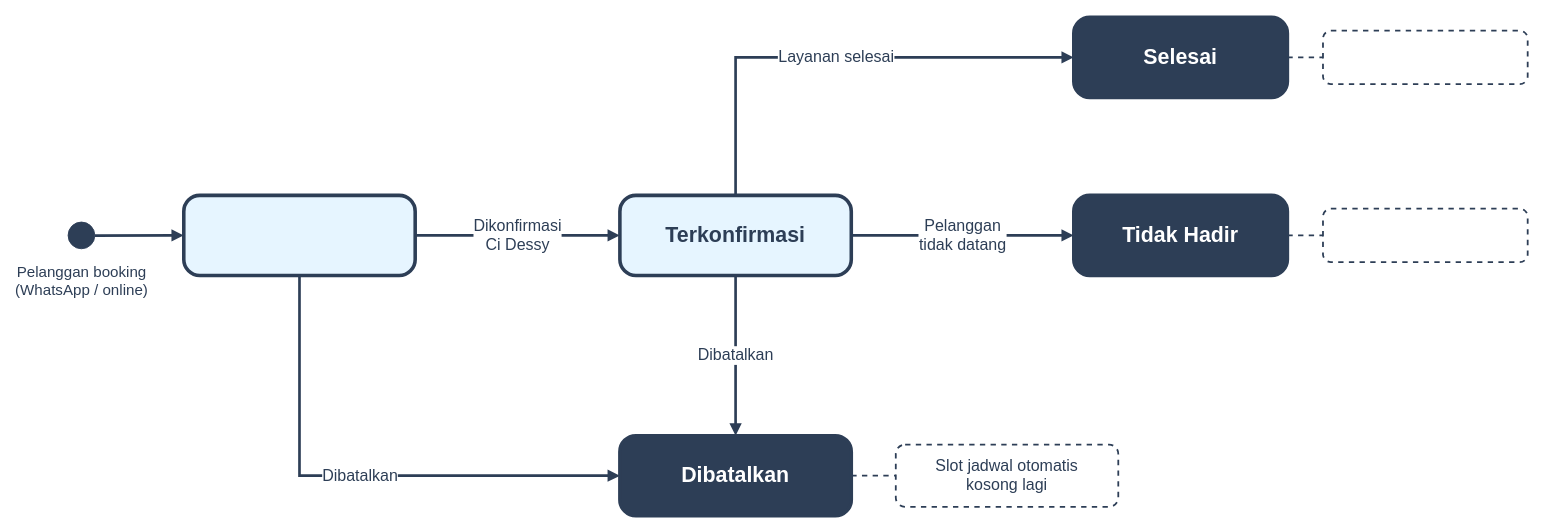
Some shapes in this 1544 by 532 pixel diagram are drawn without their labels. Here are the shapes that lost their labels. From the top down, the centre of each, then its label:
At (1425,57): "Invoice dibuat otomatis".
At (299,235): "Menunggu Konfirmasi".
At (1425,235): "Tidak ada invoice".
